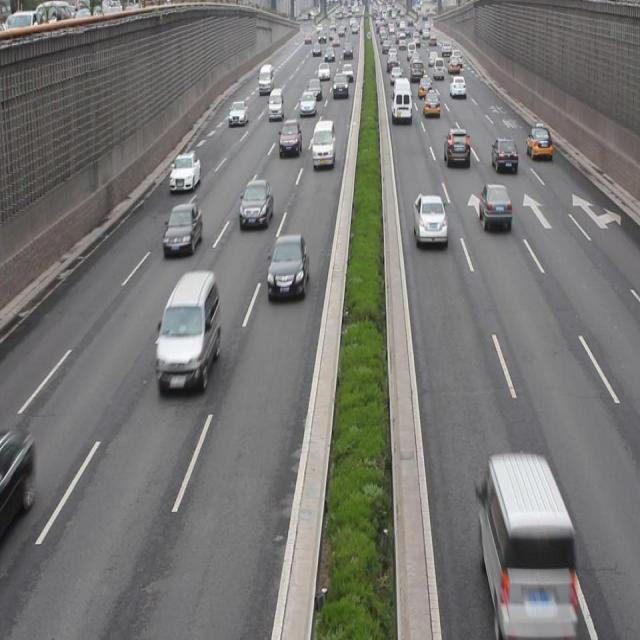car: (155, 268, 220, 396), (0, 424, 32, 532), (267, 237, 308, 298), (162, 205, 202, 255), (413, 193, 446, 250), (478, 180, 509, 232), (240, 180, 272, 227), (168, 154, 201, 192), (444, 126, 469, 170), (523, 123, 552, 160), (490, 138, 518, 175), (278, 119, 300, 157)
truck: (476, 454, 576, 626), (311, 119, 335, 167)
